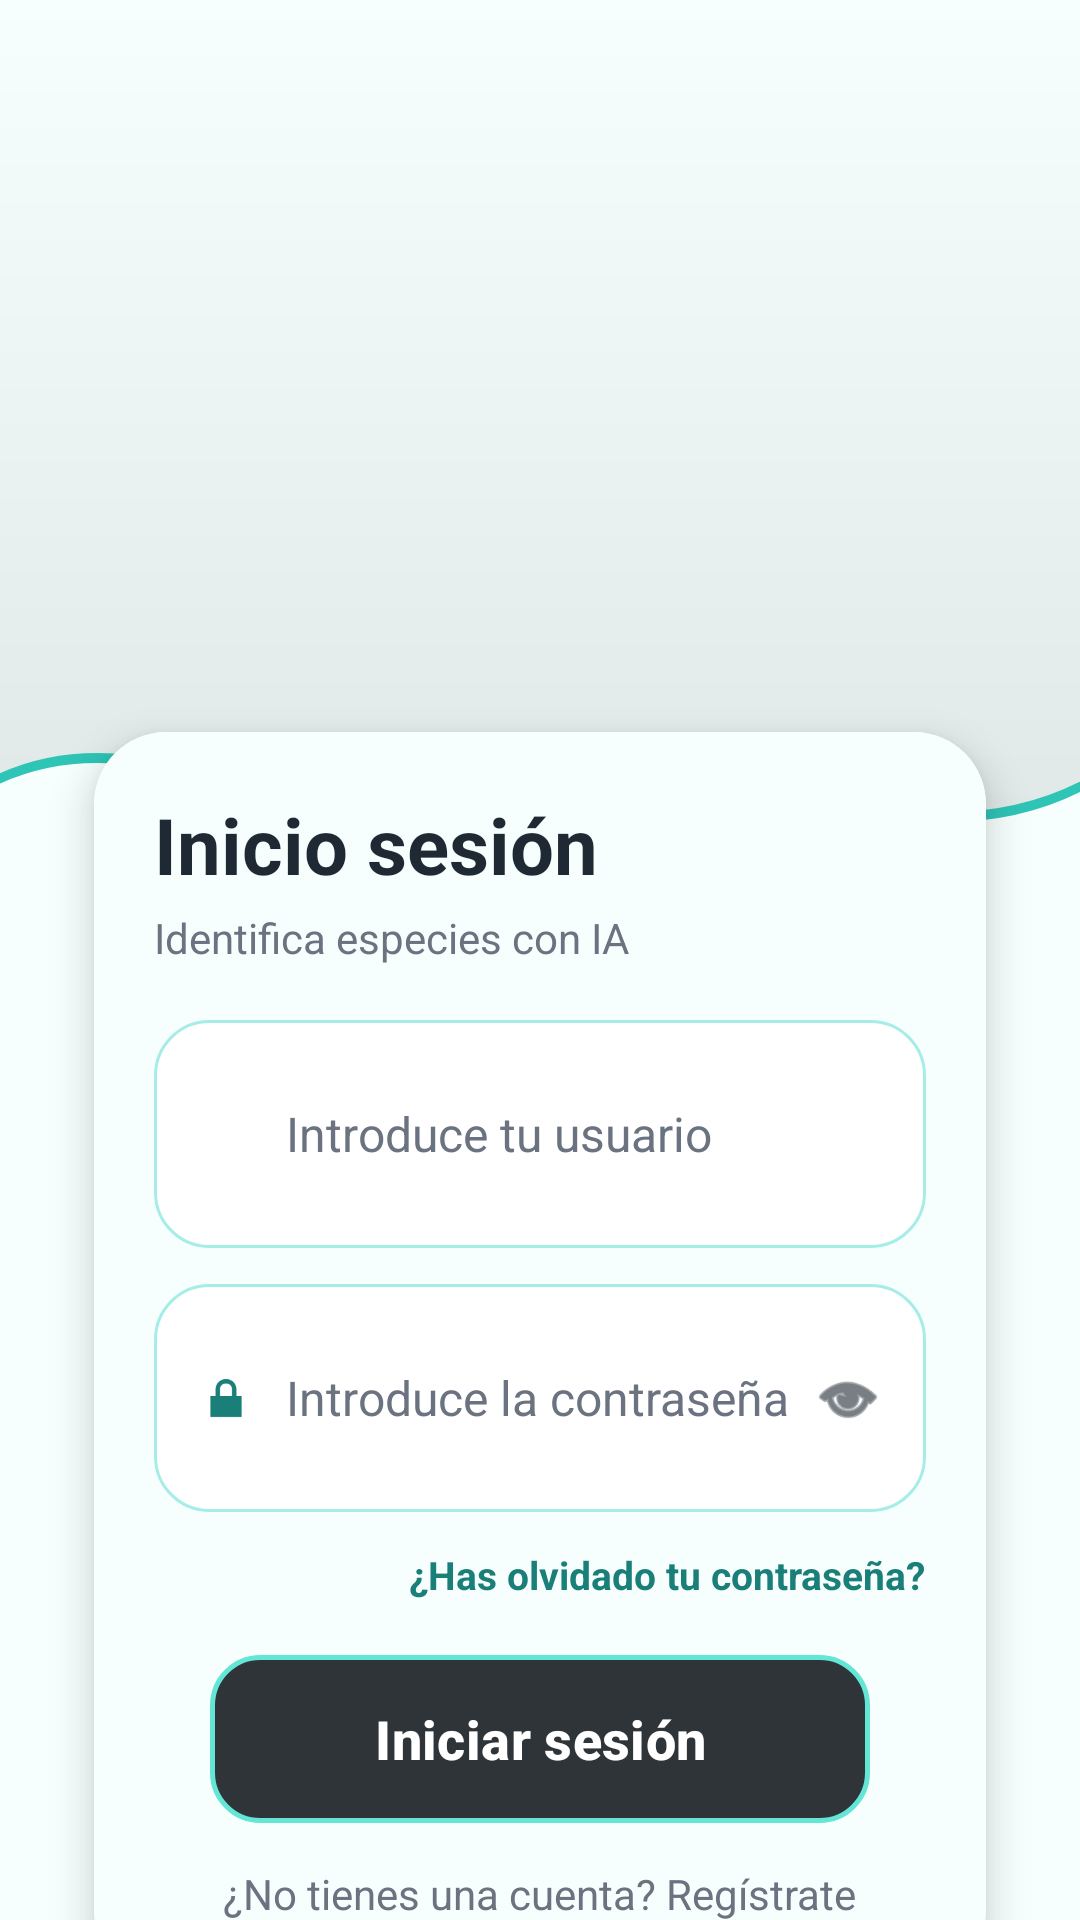

Icon bounding boxes for this 1080px×1920px phone screenshot, format [x1, y1, x2, y2]:
lock: [210, 1379, 242, 1417]
view: [819, 1381, 877, 1418]
